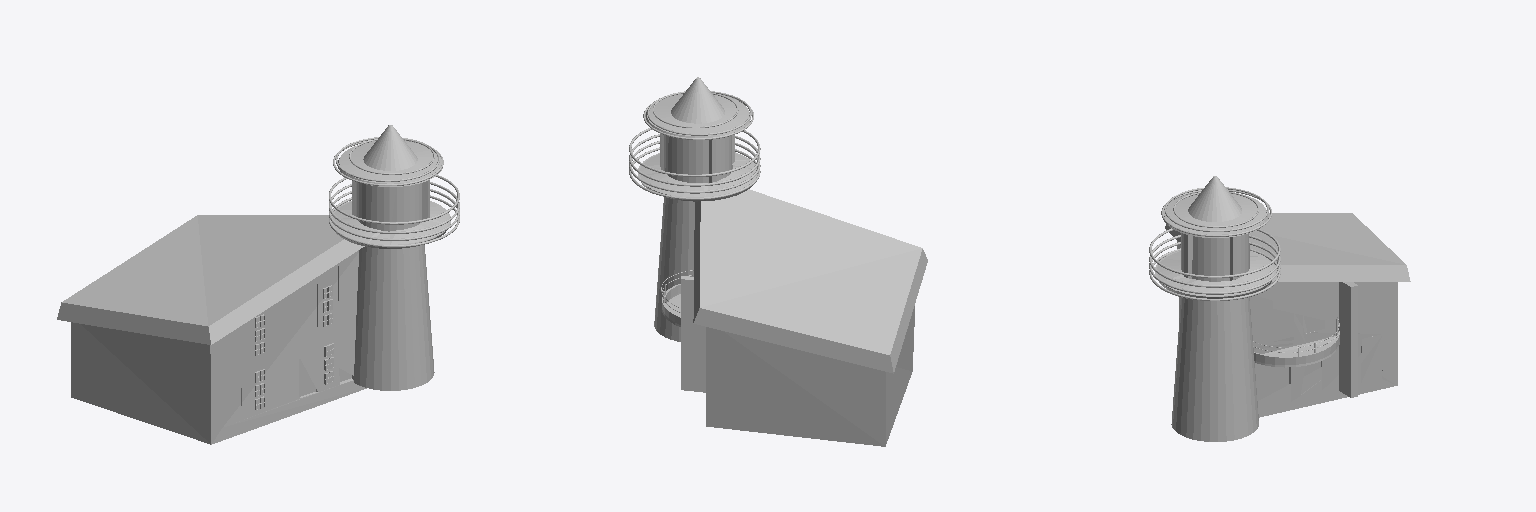
Rendered from biblioteca.obj.
The picture shows the model from 3 angles: view 1: azimuth 30°, elevation 25°; view 2: azimuth 150°, elevation 25°; view 3: azimuth 270°, elevation 25°; orthographic projection.
Visible parts, largest first — view 1: Cube.001, BezierCircle.004, BezierCircle; view 2: Cube.001, BezierCircle.004, BezierCircle.003; view 3: Cube.001, BezierCircle.004, BezierCircle.003, BezierCircle.
Part boxes in pixels (bbox=[...]): Cube.001: bbox=[57, 125, 450, 444]; BezierCircle.004: bbox=[329, 182, 459, 233]; BezierCircle: bbox=[329, 175, 459, 224]; Cube.001: bbox=[638, 77, 927, 446]; BezierCircle.004: bbox=[629, 134, 760, 186]; BezierCircle.003: bbox=[629, 141, 760, 193]; Cube.001: bbox=[1155, 176, 1410, 441]; BezierCircle.004: bbox=[1149, 235, 1280, 287]; BezierCircle.003: bbox=[1149, 242, 1280, 294]; BezierCircle: bbox=[1149, 228, 1280, 277].
Bounding box in the file's own units: 66.86 × 50.77 × 46.55.